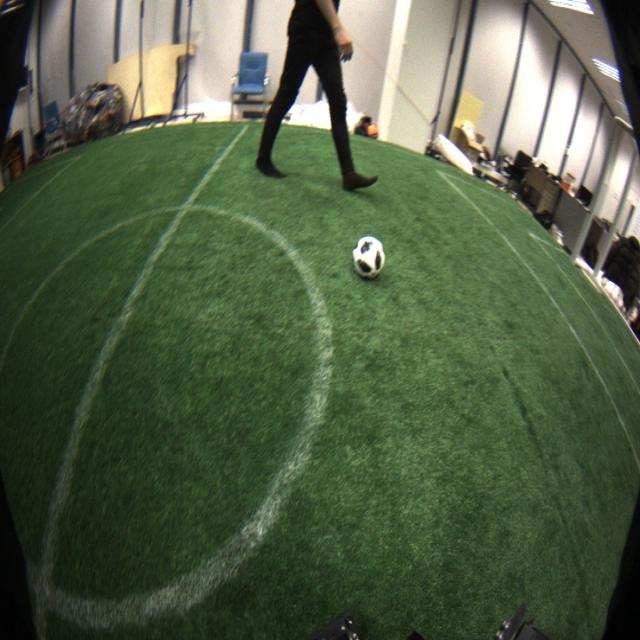ball: (352, 236, 386, 282)
goalpost: (568, 115, 630, 265)
